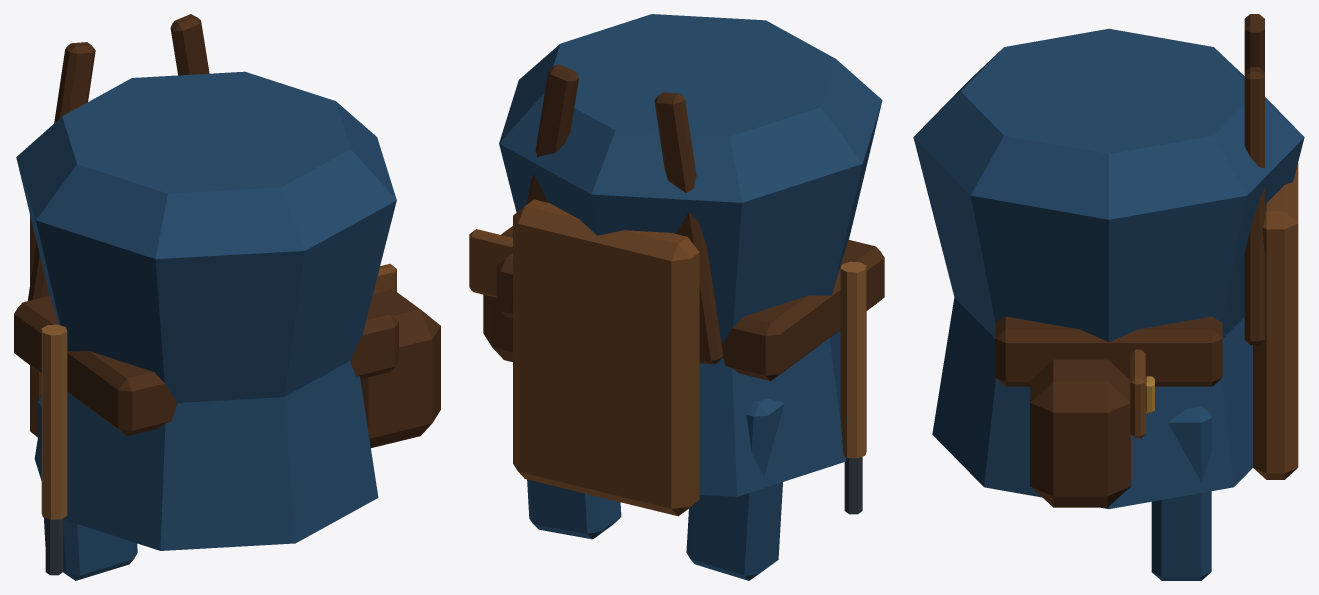
The model's file is Body.glb.
The picture shows the model from 3 angles, left to right: view 1: azimuth 30°, elevation 25°; view 2: azimuth 150°, elevation 25°; view 3: azimuth 270°, elevation 25°; orthographic projection.
Visible parts, largest first — view 1: Sculpture; view 2: Sculpture; view 3: Sculpture.
Boxes of the visible parts, box(x1,y1,x2,y2) form: Sculpture: box(14, 14, 440, 580); Sculpture: box(469, 14, 884, 580); Sculpture: box(913, 14, 1304, 580).
Bounding box in the file's own units: 0.685 × 0.8522 × 0.62.
